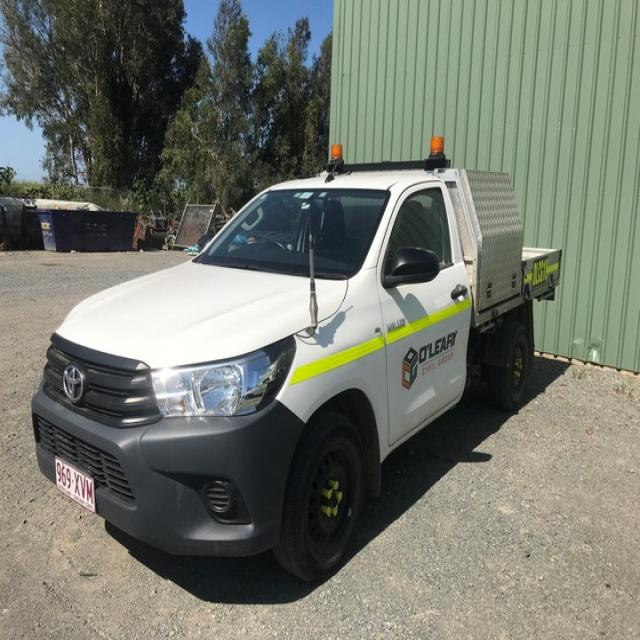light_vehicle: (23, 153, 574, 575)
